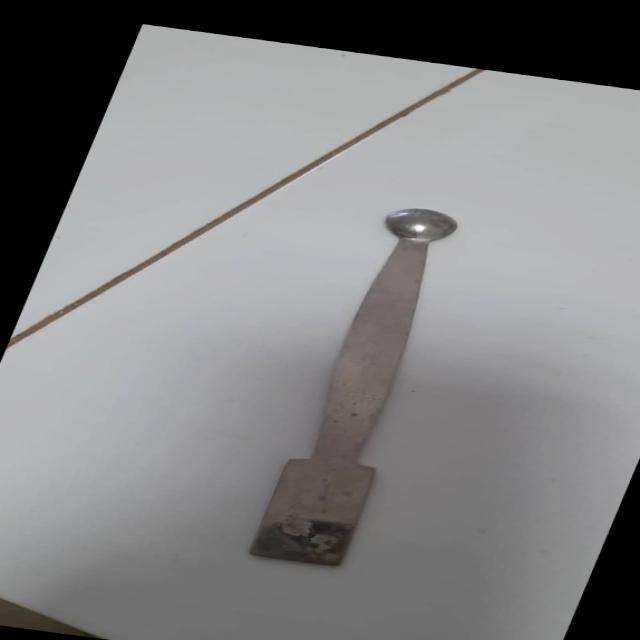Spatula: (222, 198, 499, 578)
